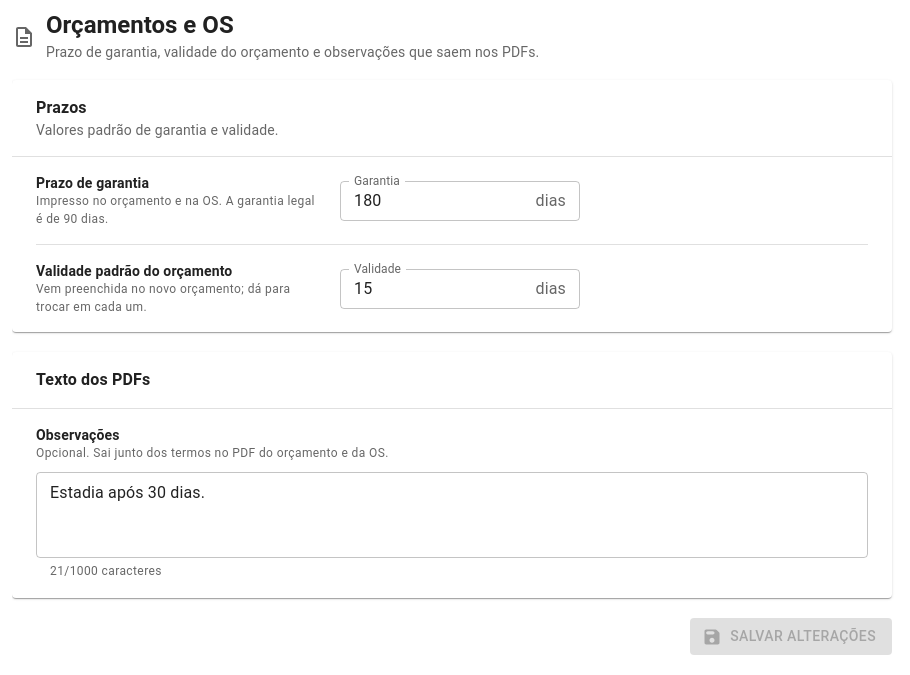
Scenario: Configurações > Orçamentos e OS › Salvar só fica ativo quando algo muda
Expected: the button with test id "save-documentos" is disabled, left=690, top=618, right=892, bottom=655
Type "0" into the number field with test id "validade-dias" at (434,289), box left=340, top=269, right=528, bottom=309
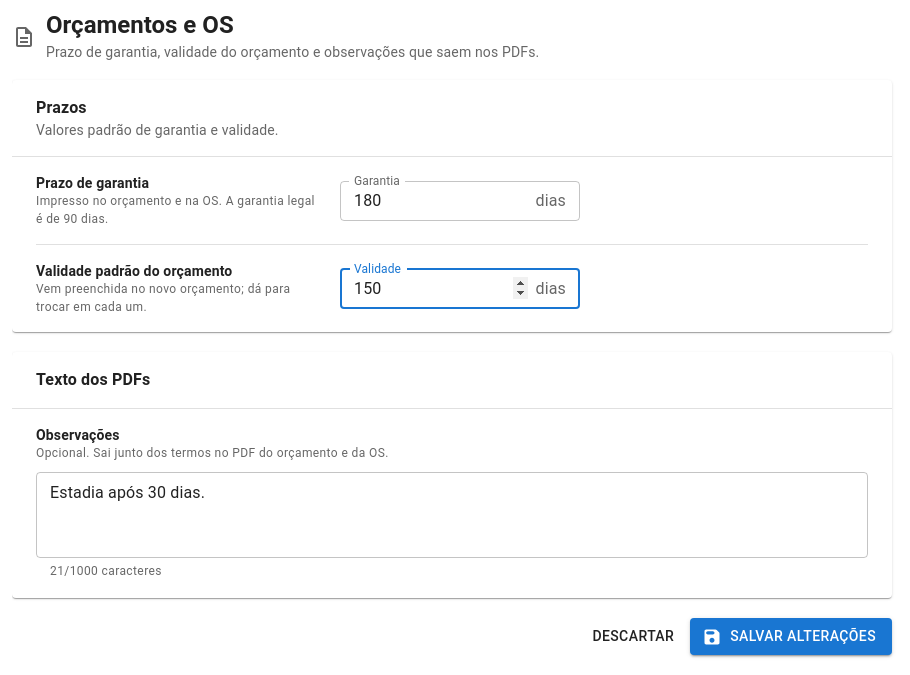
Expected: the button with test id "save-documentos" is enabled, left=690, top=618, right=892, bottom=655
